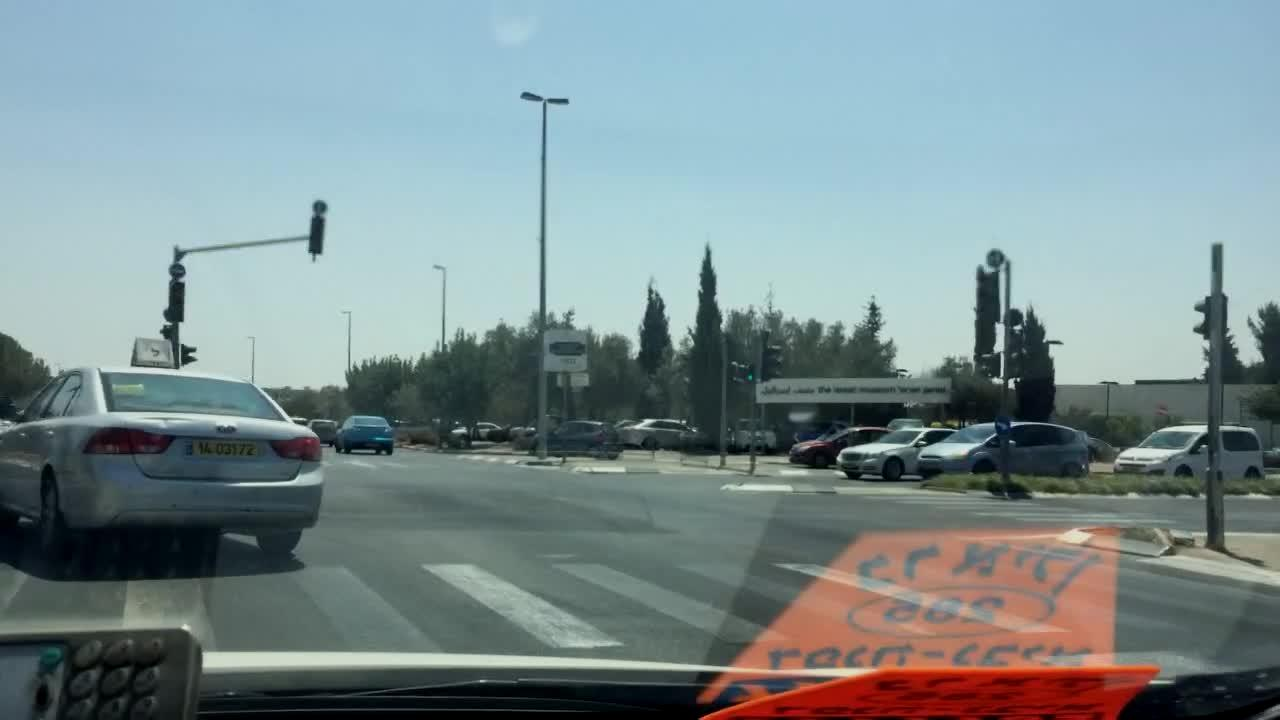kia: (210, 417, 245, 437)
